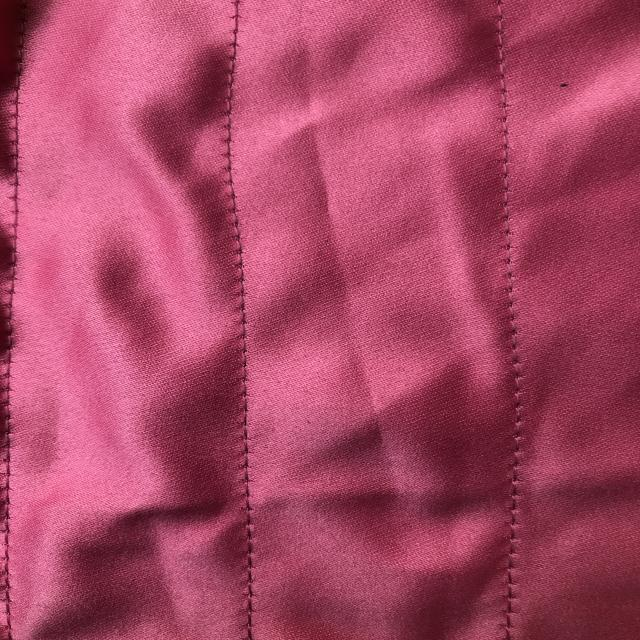good: (497, 324, 545, 473)
